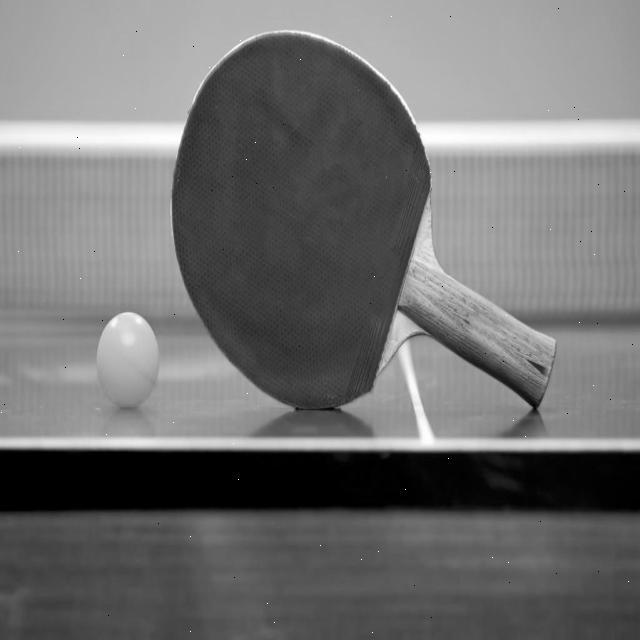ping-pong-ball: (92, 308, 164, 408)
